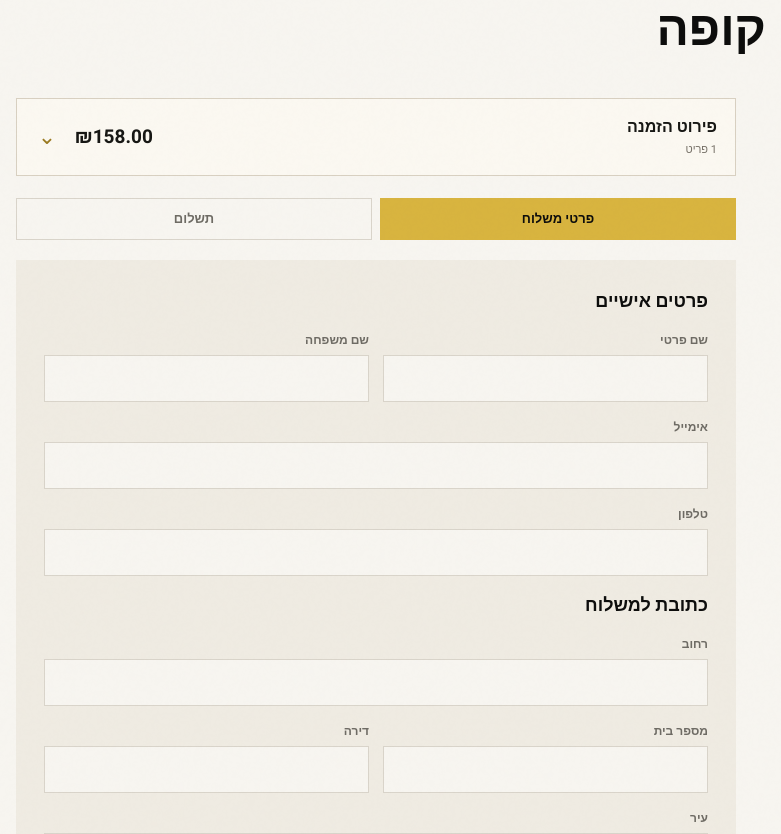
Test case: CheckoutPage order flow › keeps a collapsed order summary above the customer details until requested
Click the text "פירוט הזמנה" at (672, 127), box [627,115,717,139]
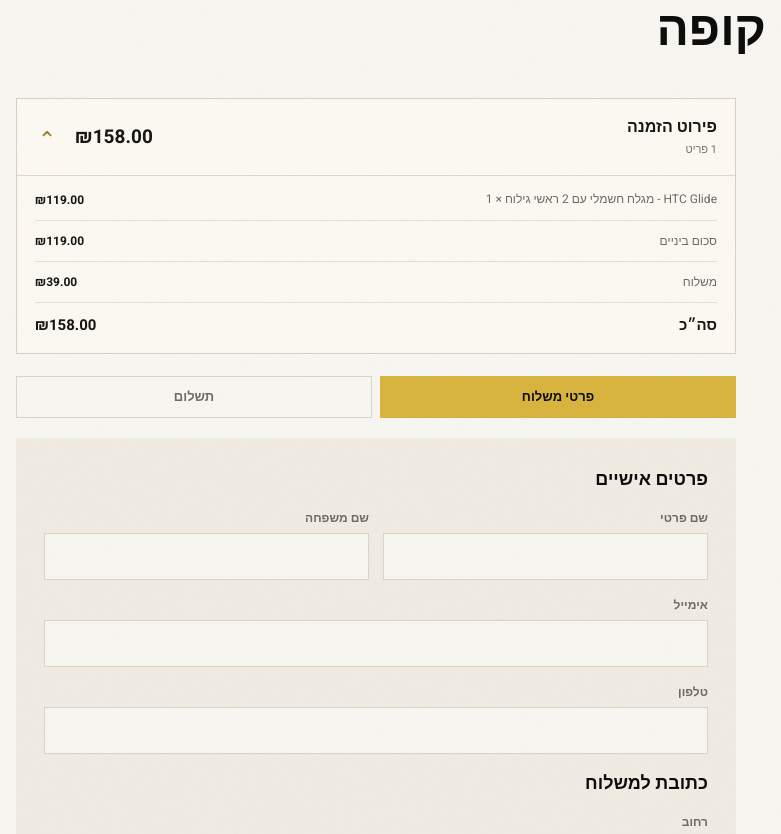
Expected: the text "₪158.00" in the row of "פירוט הזמנה" is shown, [75,123,153,151]
Expected: the text "HTC Glide - מגלח חשמלי עם 2 ראשי גילוח × 1" is shown, [486,190,717,208]
Expected: the text "₪39.00" is shown, [35,273,77,291]
